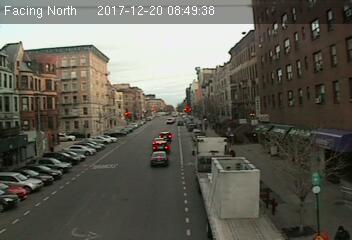car: (149, 150, 168, 167), (152, 140, 170, 153), (159, 132, 172, 140), (175, 120, 184, 126)
truck: (193, 136, 289, 240)
